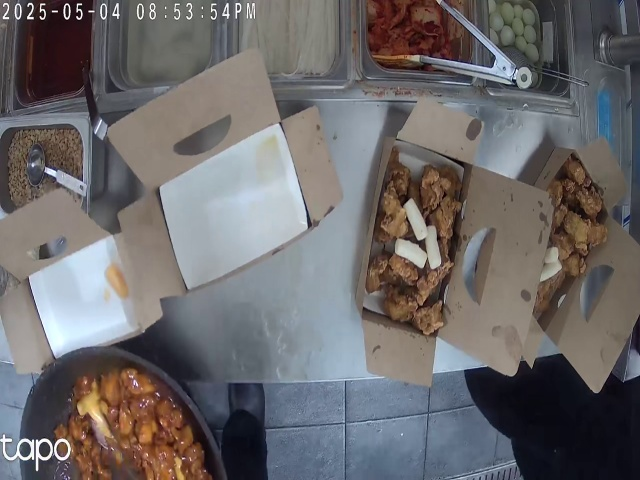delivery box: (377, 99, 519, 408), (112, 89, 334, 281), (527, 140, 640, 376), (4, 208, 161, 339)
food: (54, 370, 219, 478), (384, 144, 453, 333), (529, 146, 597, 330)
